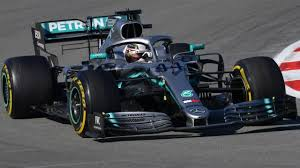f1_car: (1, 5, 300, 146)
